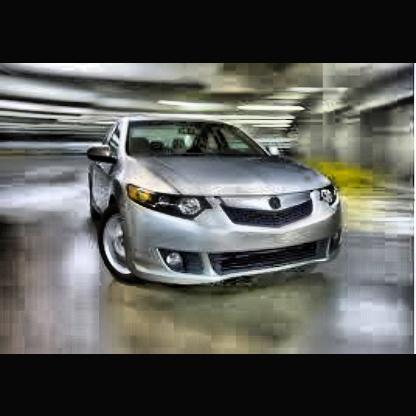Acura TSX Sedan 2012: (89, 117, 345, 286)
